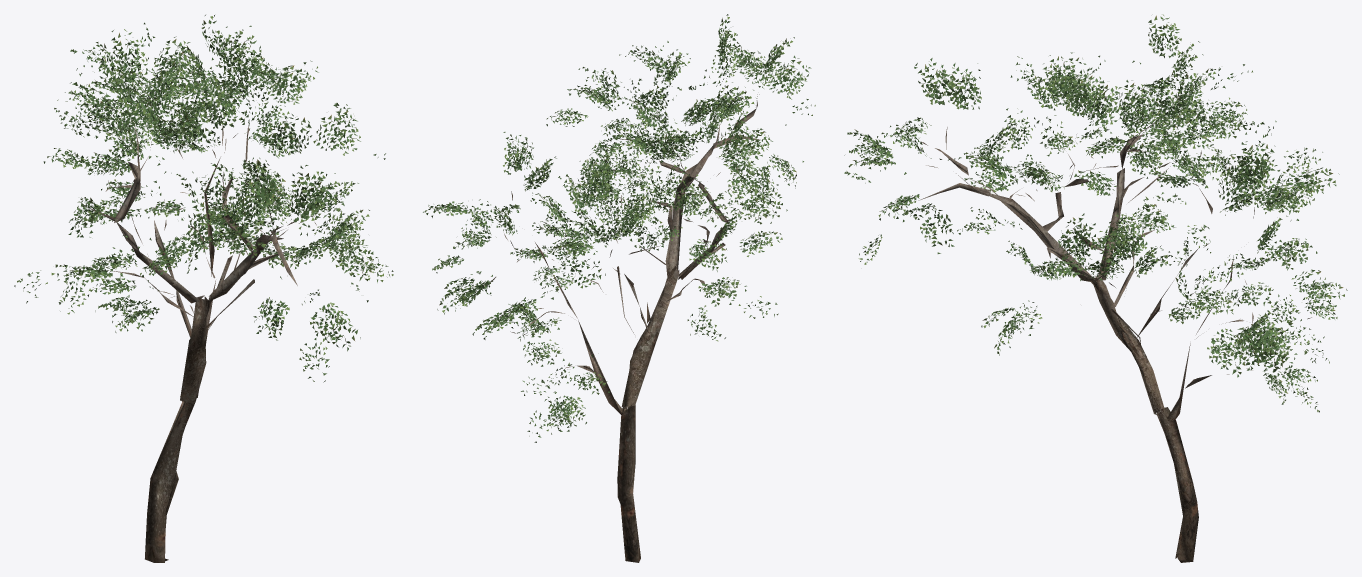
The model's file is street-tree-small-v249.glb.
3 views of the same model, side by side, from view 1: azimuth 30°, elevation 25°; view 2: azimuth 150°, elevation 25°; view 3: azimuth 270°, elevation 25° (orthographic). The views are drawn at different scales.
Parts seen in each view (by area): view 1: tree_small_02_LOD0; view 2: tree_small_02_LOD0; view 3: tree_small_02_LOD0.
Boxes of the visible parts, x1=… form: tree_small_02_LOD0: x1=14, y1=15, x2=393, y2=562; tree_small_02_LOD0: x1=423, y1=14, x2=815, y2=562; tree_small_02_LOD0: x1=844, y1=14, x2=1347, y2=562.
Bounding box in the file's own units: 2.89 × 4.56 × 4.1.
Materials: 3 (3 with a texture image).
